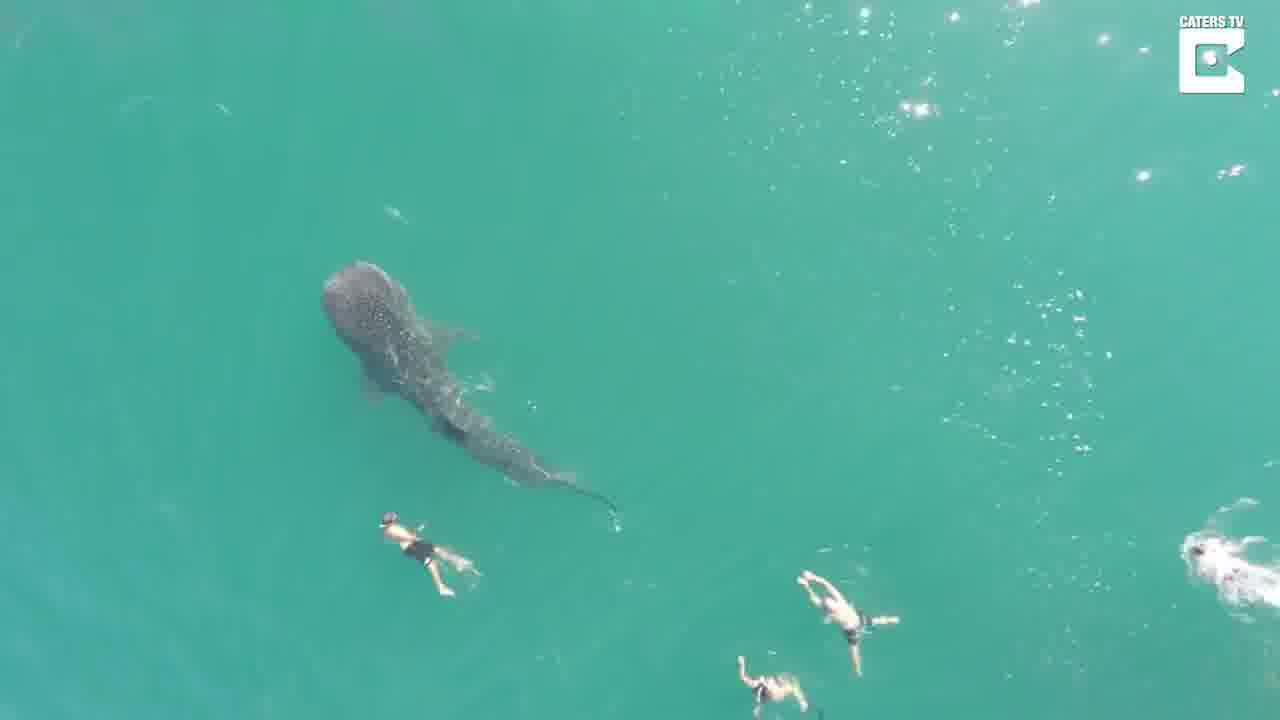human: (796, 558, 904, 682), (374, 503, 479, 605), (718, 642, 821, 720)
